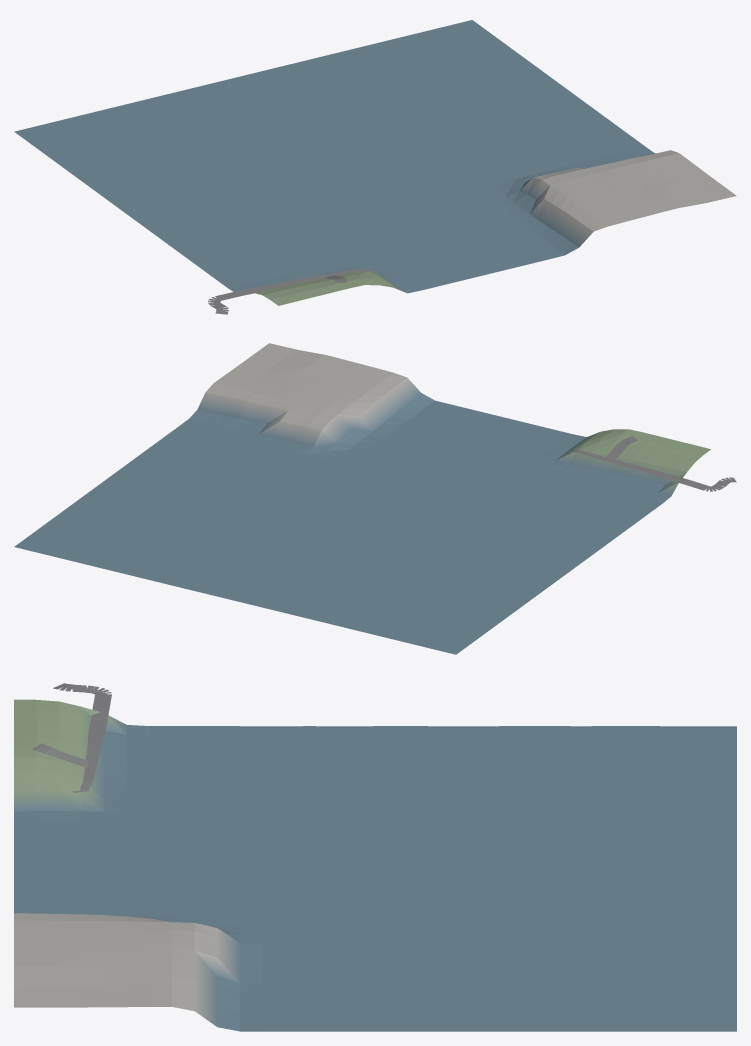
File: tile_1_1.glb
3 views of the same model, one above another, from view 1: azimuth 30°, elevation 25°; view 2: azimuth 150°, elevation 25°; view 3: azimuth 270°, elevation 25° (orthographic). The views are drawn at different scales.
Parts seen in each view (by area): view 1: terrain, roads; view 2: terrain, roads; view 3: terrain, roads.
Boxes of the visible parts, x1,y1,x2,y2 form: terrain: (14,20,736,305); roads: (208,269,373,314); terrain: (14,343,710,654); roads: (574,436,736,491); terrain: (14,699,736,1031); roads: (32,683,111,792).
Size of the model in its own units: 281 by 10.52 by 256.
